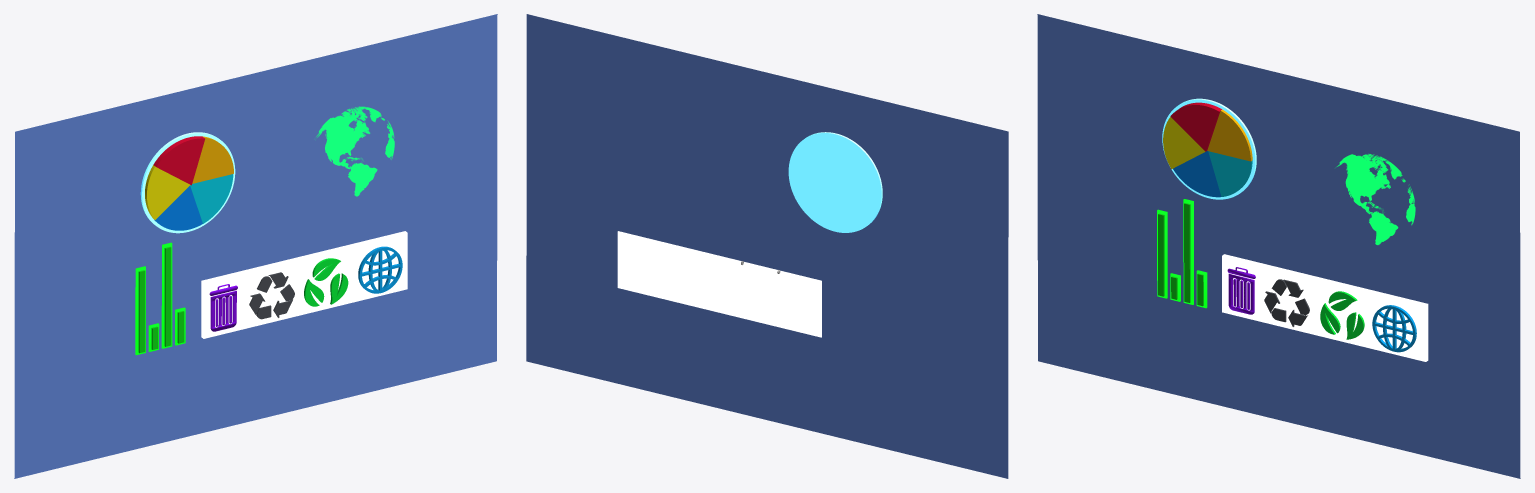
File: riski2.gltf
3 renders of one model, left to right at view 1: azimuth 30°, elevation 25°; view 2: azimuth 150°, elevation 25°; view 3: azimuth 330°, elevation 25°, orthographic.
Visible parts, largest first — view 1: Plane.001, Cube, Slice_2, Bumi 2@5x-8, Curve.012, Curve.019, Curve.011, Curve.017, Curve, Curve.005, Cylinder; view 2: Plane.001, Cube, Cylinder; view 3: Plane.001, Cube, Slice_2, Bumi 2@5x-8, Curve.012, Curve.019, Curve.011, Curve.017, Curve, Curve.005, Cylinder.
Part boxes in pixels (bbox=[...]): Plane.001: bbox=[14, 14, 497, 478]; Cube: bbox=[201, 231, 407, 338]; Slice_2: bbox=[145, 136, 233, 230]; Bumi 2@5x-8: bbox=[316, 106, 394, 196]; Curve.012: bbox=[138, 246, 184, 353]; Curve.019: bbox=[135, 242, 185, 355]; Curve.011: bbox=[358, 246, 402, 293]; Curve.017: bbox=[304, 258, 348, 306]; Curve: bbox=[209, 284, 237, 331]; Curve.005: bbox=[249, 272, 294, 319]; Cylinder: bbox=[140, 132, 235, 233]; Plane.001: bbox=[526, 14, 1008, 478]; Cube: bbox=[617, 231, 821, 337]; Cylinder: bbox=[788, 132, 882, 232]; Plane.001: bbox=[1037, 14, 1520, 478]; Cube: bbox=[1222, 254, 1428, 361]; Slice_2: bbox=[1163, 102, 1252, 197]; Bumi 2@5x-8: bbox=[1336, 153, 1415, 245]; Curve.012: bbox=[1158, 203, 1203, 306]; Curve.019: bbox=[1157, 199, 1207, 308]; Curve.011: bbox=[1372, 305, 1416, 352]; Curve.017: bbox=[1320, 291, 1364, 339]; Curve: bbox=[1227, 267, 1255, 314]; Curve.005: bbox=[1264, 279, 1309, 326]; Cylinder: bbox=[1162, 98, 1256, 199].
Bounding box in the file's own units: 4.35 × 2.99 × 0.1226.
Materials: 16 (1 with a texture image).
